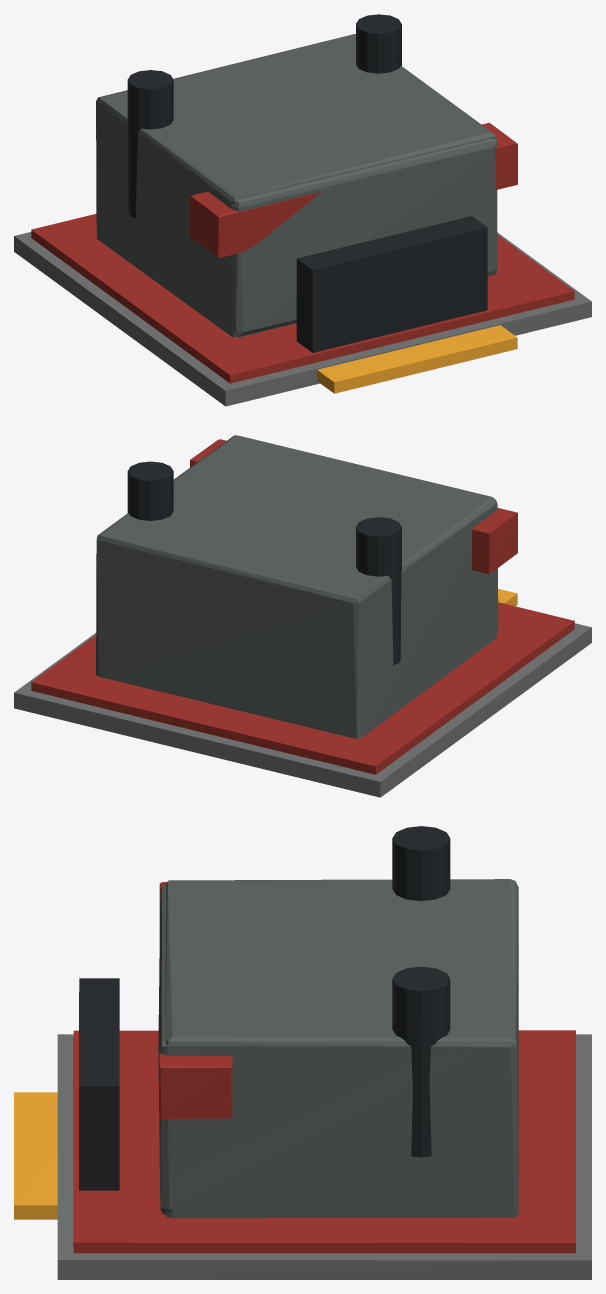
File: SM_Soviet_SU_WarFactory_LOD2.fbx
3 views of the same model, one above another, from view 1: azimuth 30°, elevation 25°; view 2: azimuth 150°, elevation 25°; view 3: azimuth 270°, elevation 25° (orthographic). The views are drawn at different scales.
Parts seen in each view (by area): view 1: LOD02_SM_Soviet_SU_WarFactory; view 2: LOD02_SM_Soviet_SU_WarFactory; view 3: LOD02_SM_Soviet_SU_WarFactory.
Part boxes in pixels (<box>): LOD02_SM_Soviet_SU_WarFactory: <box>14,14,591,406</box>; LOD02_SM_Soviet_SU_WarFactory: <box>14,435,591,797</box>; LOD02_SM_Soviet_SU_WarFactory: <box>14,826,591,1279</box>.
Size of the model in its own units: 797 by 862 by 425.
